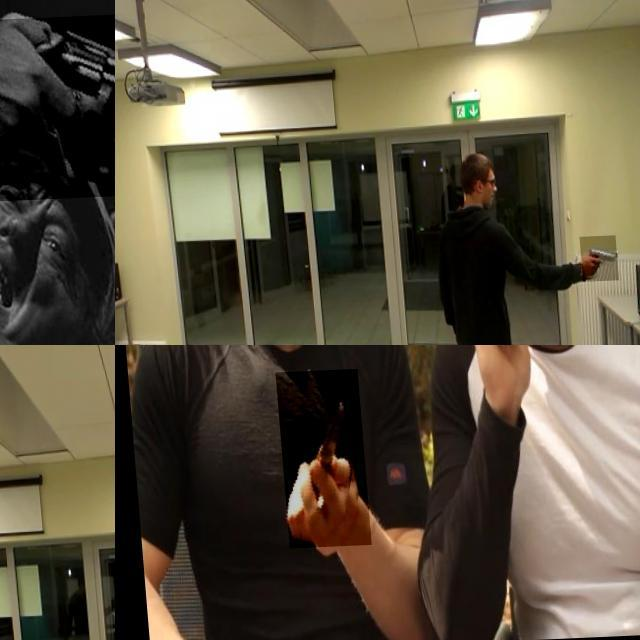-: (270, 372, 362, 550)
gun-knife-thesis - v11 Yolov5 augmented: (0, 14, 115, 204), (574, 241, 613, 287)
